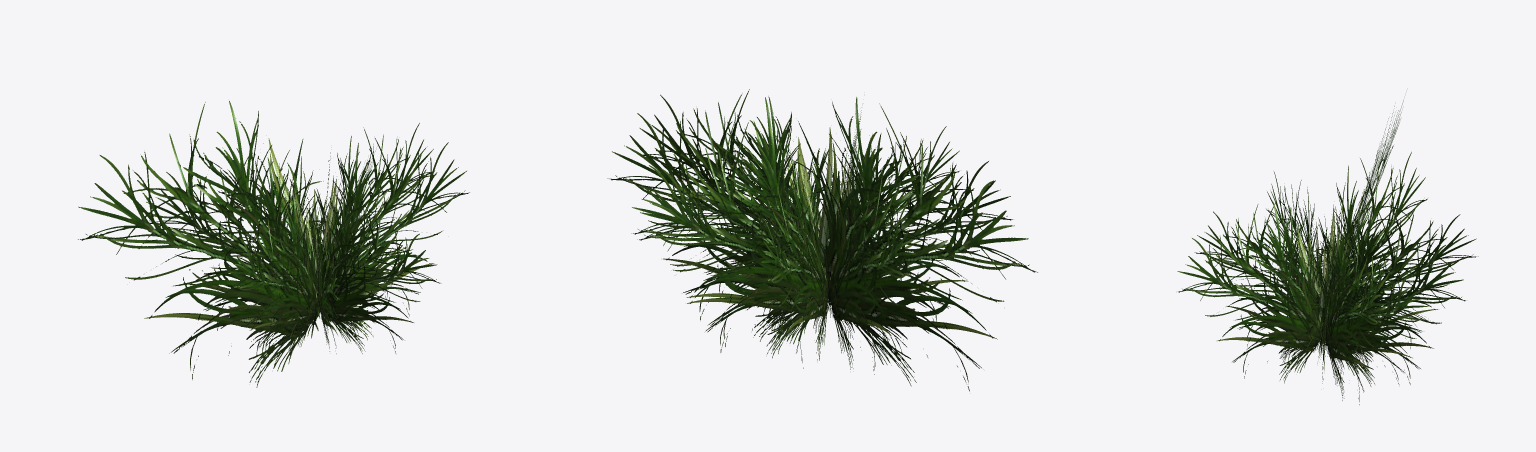
The model's file is Grass_5.fbx.
3 views of the same model, side by side, from view 1: azimuth 30°, elevation 25°; view 2: azimuth 150°, elevation 25°; view 3: azimuth 270°, elevation 25° (orthographic). The views are drawn at different scales.
Parts seen in each view (by area): view 1: Grass_5; view 2: Grass_5; view 3: Grass_5.
Part boxes in pixels (bbox=[...]): Grass_5: bbox=[78, 101, 469, 387]; Grass_5: bbox=[607, 89, 1037, 391]; Grass_5: bbox=[1177, 100, 1478, 404].
Bounding box in the file's own units: 2035 × 1619 × 1464.
